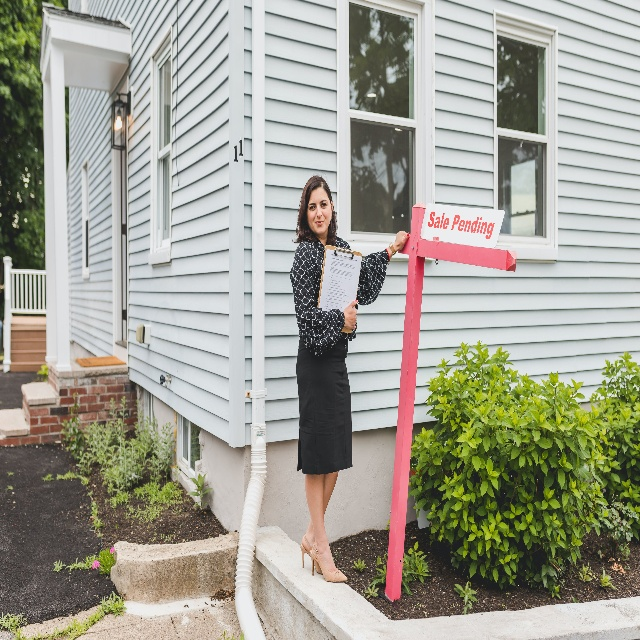Sin_guantes: (344, 299, 359, 331), (395, 229, 410, 252)
